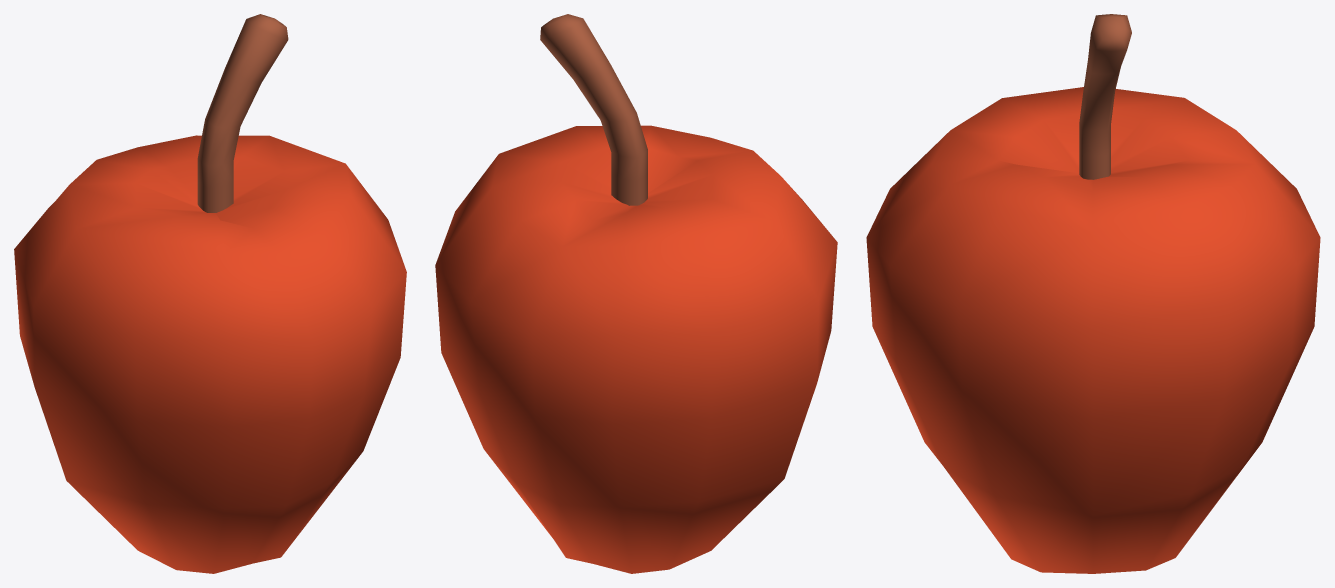
Rendered from Apple.fbx.
The picture shows the model from 3 angles, left to right: view 1: azimuth 30°, elevation 25°; view 2: azimuth 150°, elevation 25°; view 3: azimuth 270°, elevation 25°; orthographic projection. The views are drawn at different scales.
Visible parts, largest first — view 1: Cube; view 2: Cube; view 3: Cube.
Part boxes in pixels (x1,y1,x2,y2): Cube: [14, 14, 406, 573]; Cube: [435, 14, 837, 573]; Cube: [866, 14, 1320, 573].
Bounding box in the file's own units: 202 × 273 × 201.
